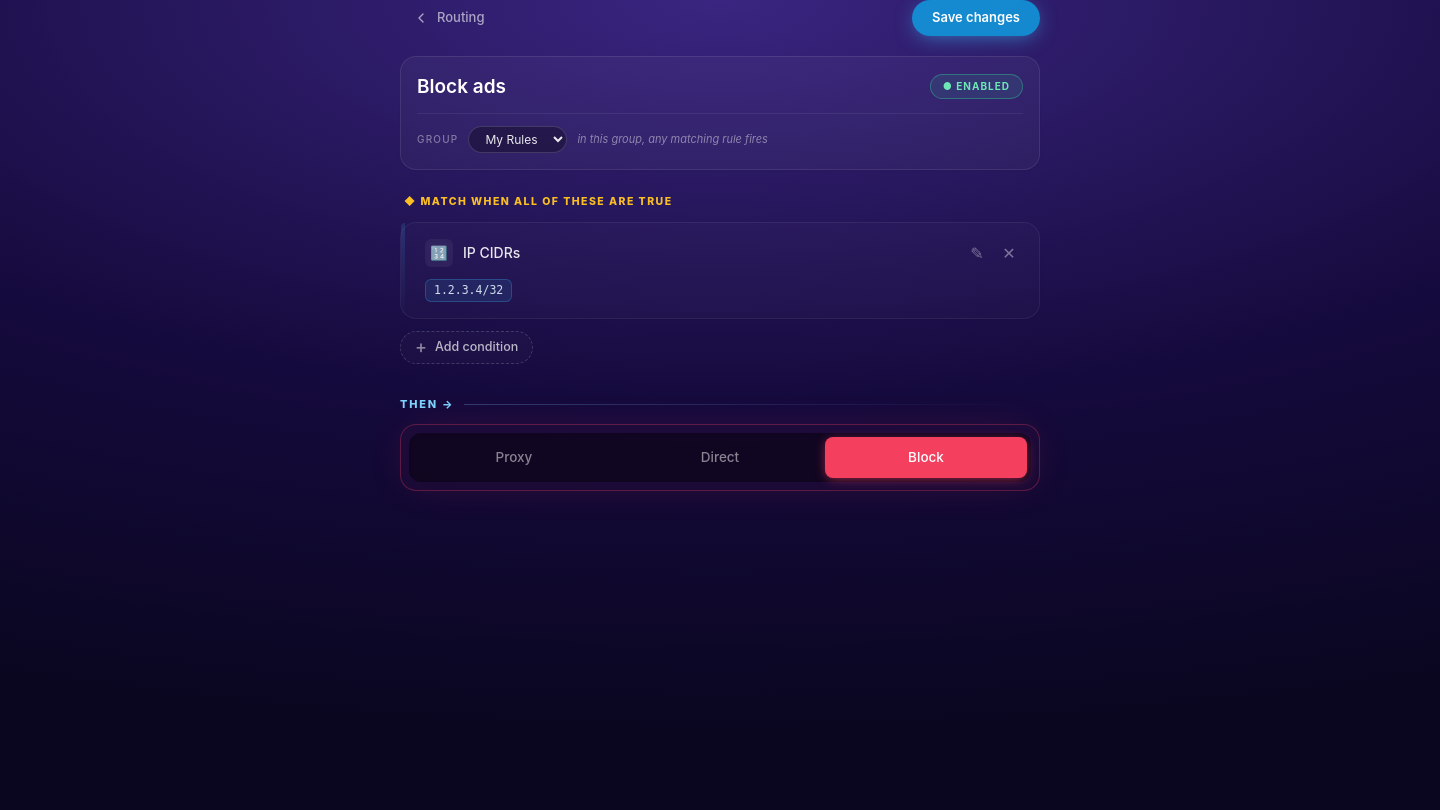
Scenario: RuleEditor › shows a discard-changes confirm when leaving with unsaved edits
The width and height of the screenshot is (1440, 810).
Step 1. Type " edit" into the field named "name" → (667, 87), box [417, 72, 918, 101]
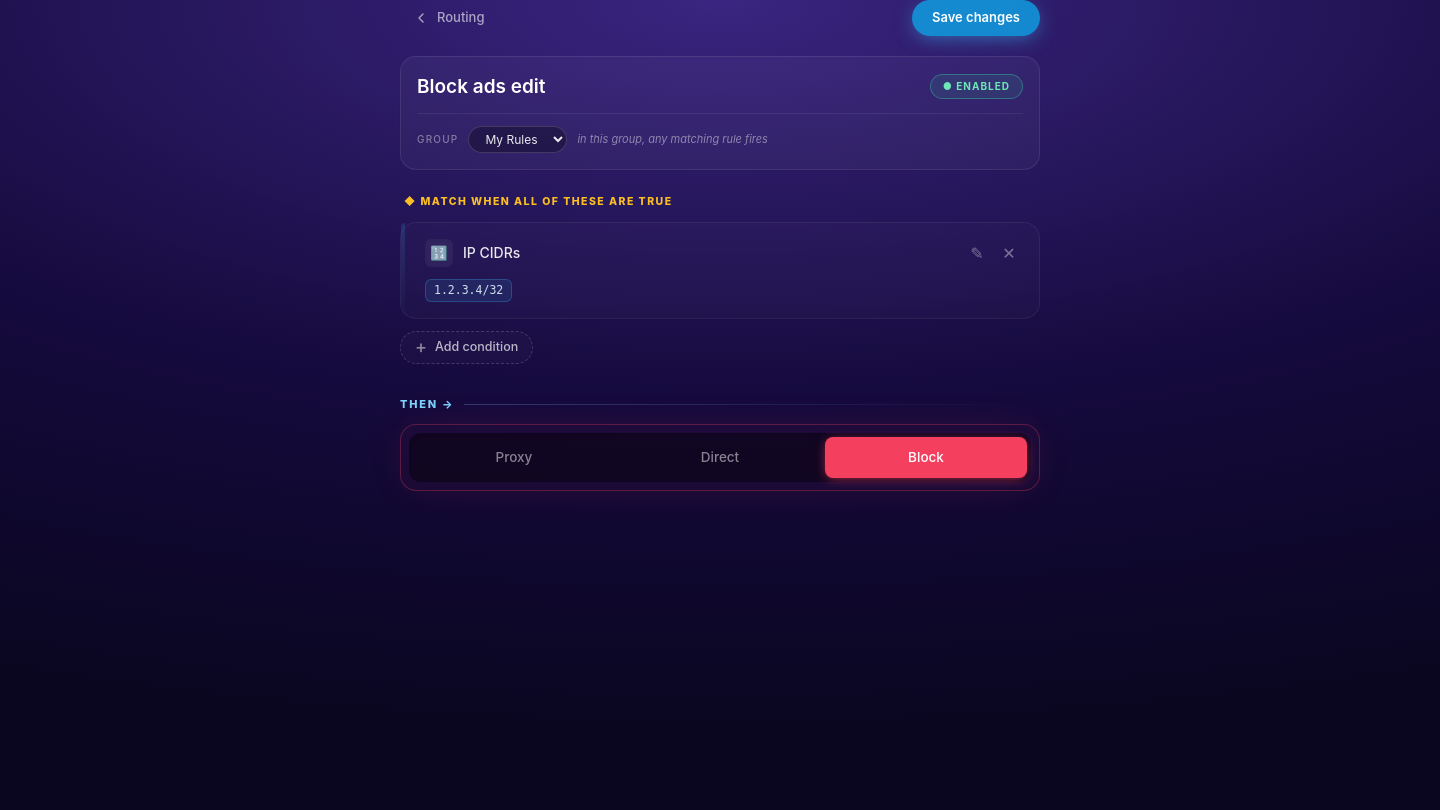
Step 2. Click the button "Routing" → (449, 18), box [400, 1, 498, 34]
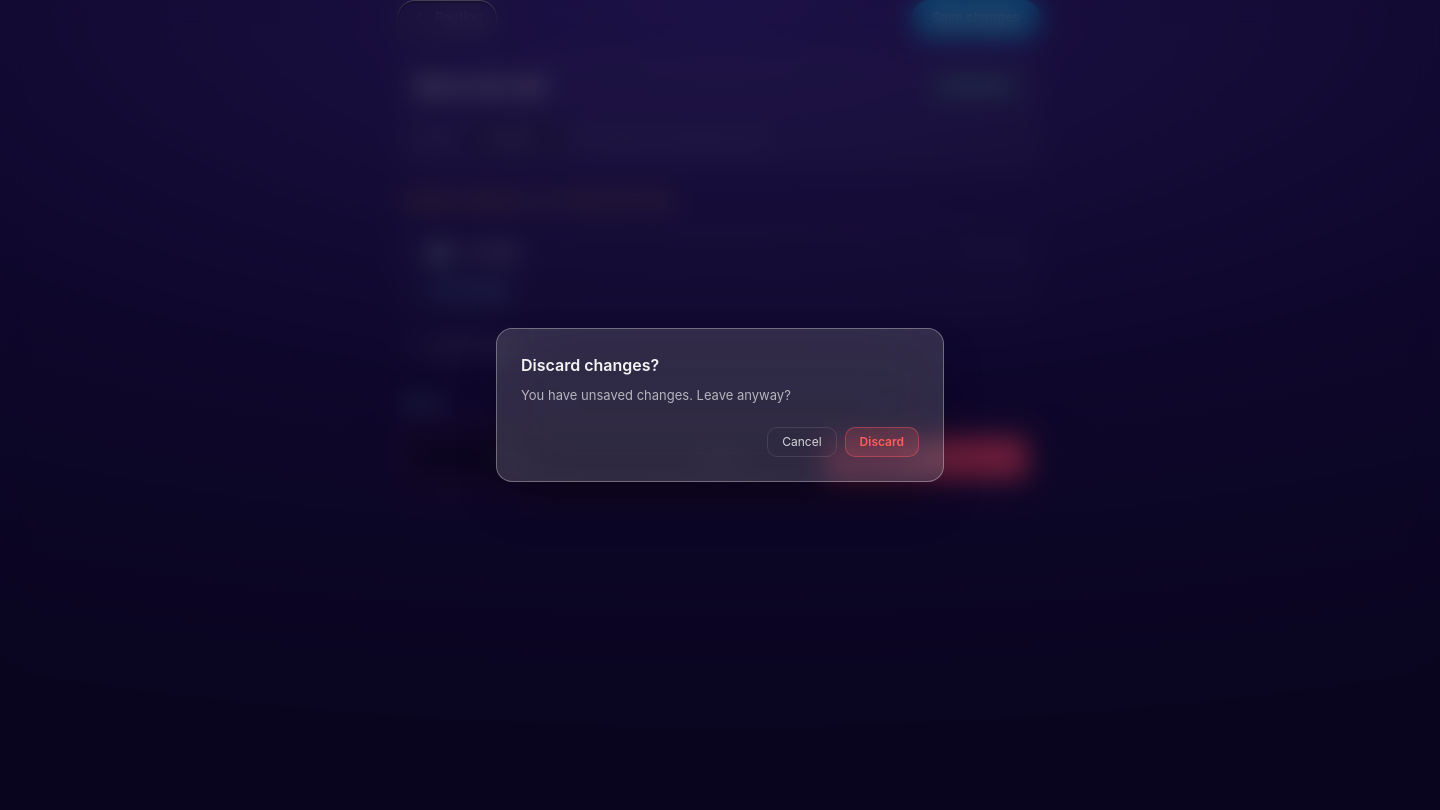
Expected: the heading "Discard changes?" is shown, [521, 355, 659, 375]
